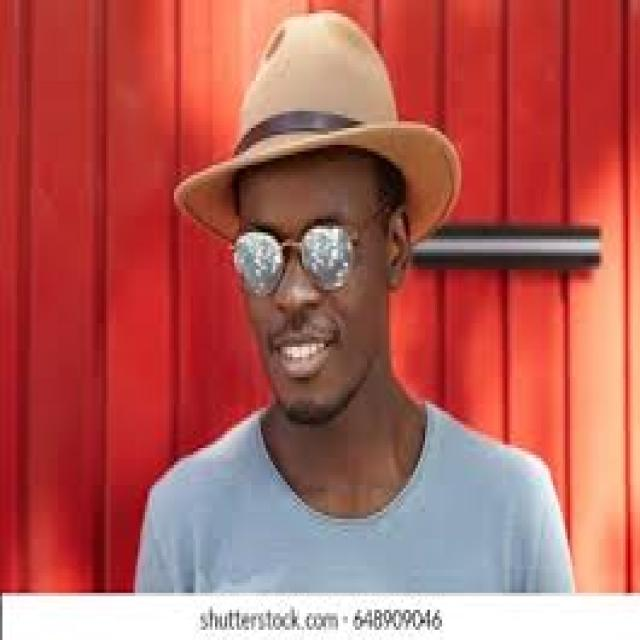hat: (183, 17, 459, 418)
